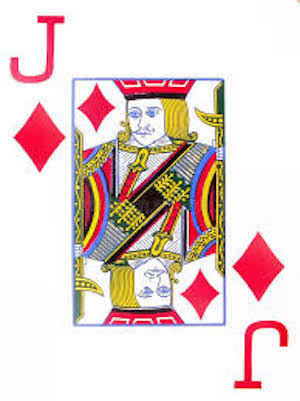JackOfDiamonds: (2, 1, 297, 401)
